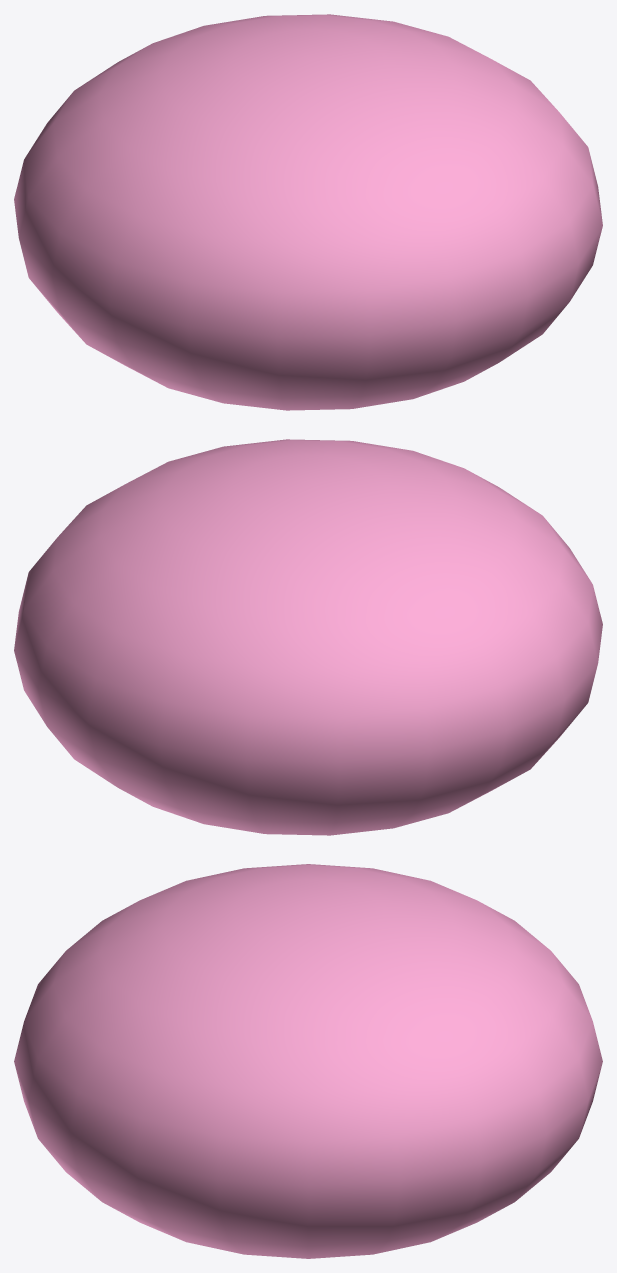
Rendered from toy_barn_yarn_ball.glb.
3 views of the same model, one above another, from view 1: azimuth 30°, elevation 25°; view 2: azimuth 150°, elevation 25°; view 3: azimuth 270°, elevation 25° (orthographic).
Parts seen in each view (by area): view 1: solid_1; view 2: solid_1; view 3: solid_1.
Part boxes in pixels (x1,y1,x2,y2): solid_1: (14,14,602,410); solid_1: (14,439,602,835); solid_1: (14,864,602,1258).
Bounding box in the file's own units: 2.5 × 1.45 × 2.5.
